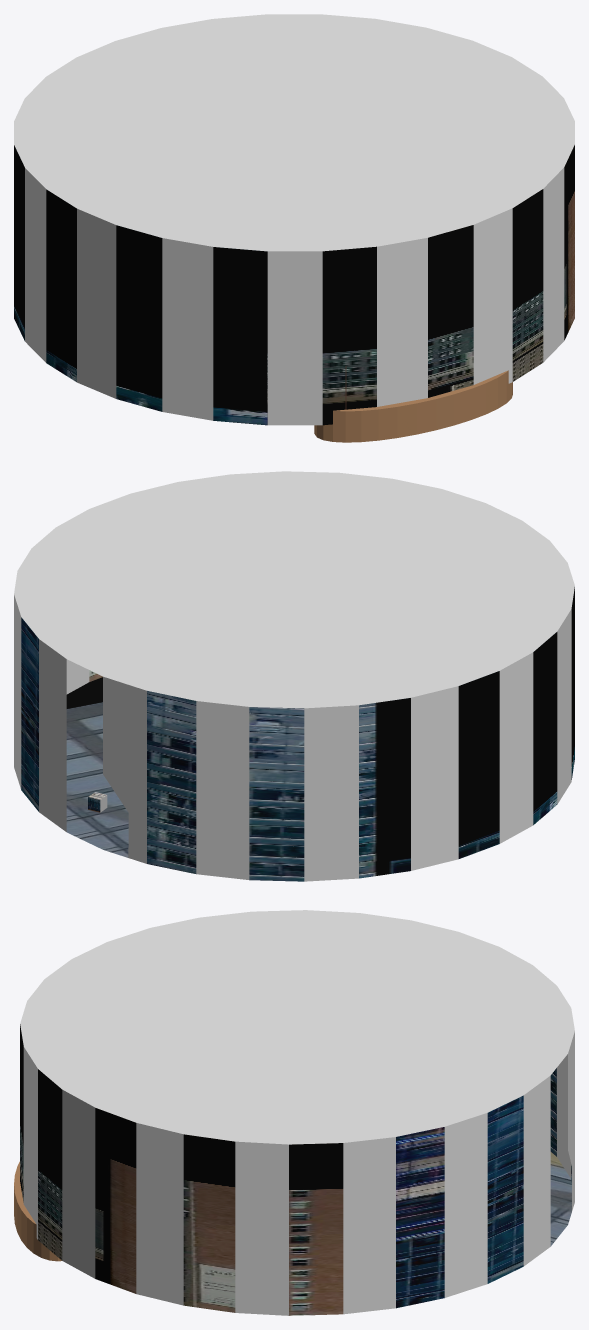
Rendered from InsideOfCircusBoss.fbx.
3 renders of one model, top to bottom at view 1: azimuth 30°, elevation 25°; view 2: azimuth 150°, elevation 25°; view 3: azimuth 270°, elevation 25°, orthographic.
Parts seen in each view (by area): view 1: BossCircus; view 2: BossCircus; view 3: BossCircus.
Part boxes in pixels (x1,y1,x2,y2): BossCircus: (14,14,574,442); BossCircus: (14,471,574,881); BossCircus: (14,910,574,1315).
Bounding box in the file's own units: 1772 × 665 × 1791.
